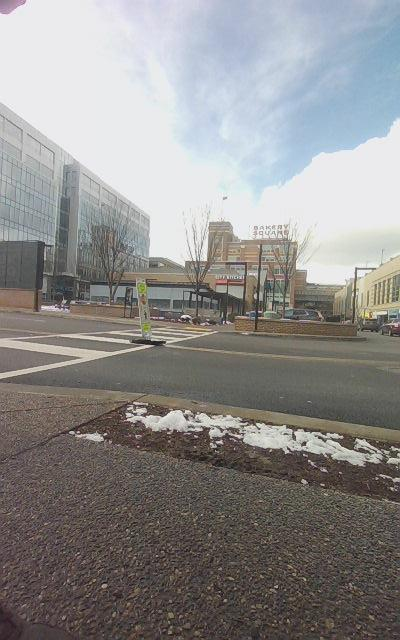curb: (0, 383, 399, 639)
road: (0, 311, 399, 428)
